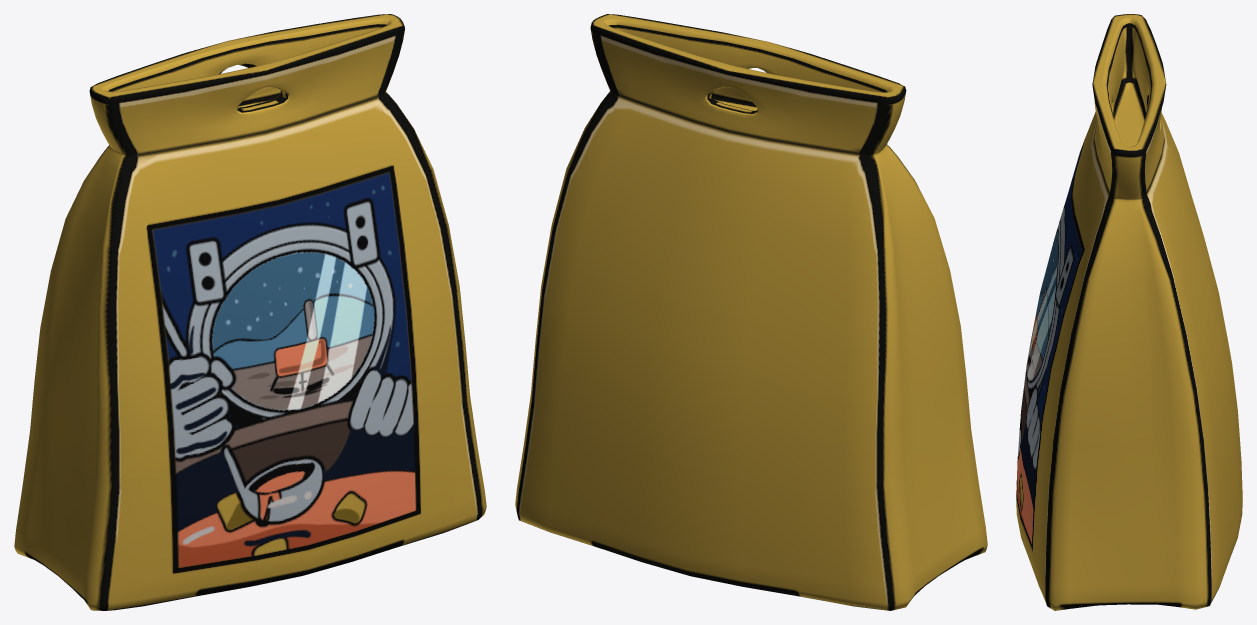
The model's file is food.fbx.
3 views of the same model, side by side, from view 1: azimuth 30°, elevation 25°; view 2: azimuth 150°, elevation 25°; view 3: azimuth 270°, elevation 25° (orthographic). The views are drawn at different scales.
Parts seen in each view (by area): view 1: bob; view 2: bob; view 3: bob.
Part boxes in pixels (left/top/right/bottom): bob: left=14, top=14, right=486, bottom=610; bob: left=515, top=14, right=987, bottom=610; bob: left=1016, top=14, right=1242, bottom=610.
Size of the model in its own units: 1.14 by 1.32 by 0.6122.
1 material, 1 textured.
